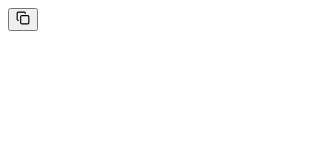
Test: essay copy button › ignores stale success when the newer copy has completed: false
Earlier steps of the test are not shown.
Later steps or results of the test are not shown.
Click the button.
click(23, 20)  # box [8,8,38,31]
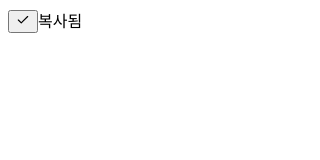
Expected: the message reads "복사됨", [38,13,82,30]
